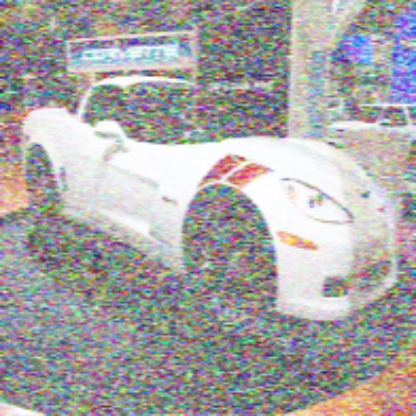Vehicle: (20, 74, 400, 337)
